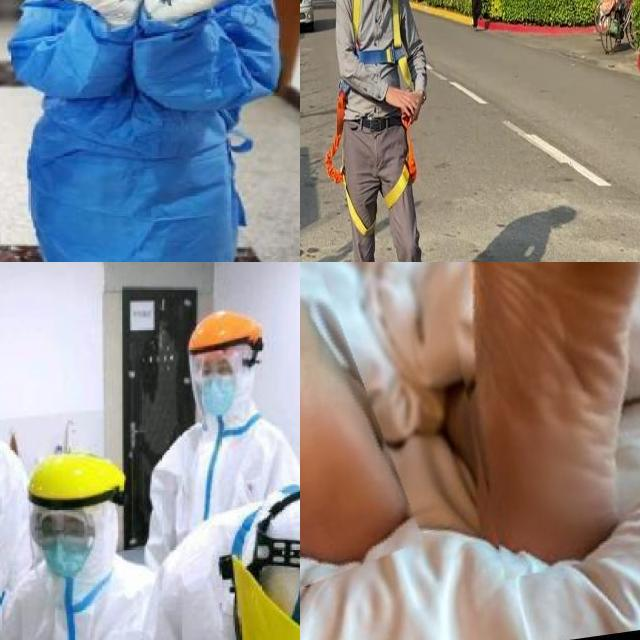Barefoots: (407, 262, 640, 579), (300, 262, 401, 621)
Harness: (325, 85, 414, 236), (353, 0, 413, 88)
face_mask: (42, 511, 94, 576), (197, 352, 240, 414)
glasses: (23, 501, 104, 552)
hand_glove: (145, 0, 280, 24), (23, 0, 142, 24)
head_helmet: (29, 434, 124, 504), (187, 306, 261, 360)
person: (27, 0, 273, 262), (150, 309, 300, 529), (0, 438, 162, 640)
